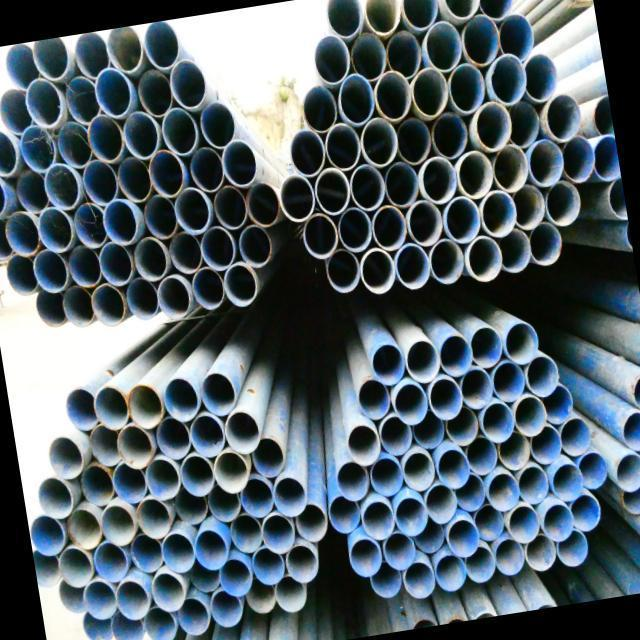pipe: (166, 57, 210, 111), (372, 68, 416, 122), (541, 88, 585, 142), (423, 234, 468, 286), (276, 173, 320, 226), (520, 49, 562, 102), (408, 68, 452, 118), (472, 100, 516, 150), (416, 152, 460, 202), (120, 105, 161, 158), (160, 106, 200, 160), (498, 8, 538, 62), (485, 55, 529, 104), (184, 409, 228, 458), (53, 115, 93, 168), (334, 75, 378, 123), (320, 244, 362, 294), (198, 368, 240, 418), (125, 378, 166, 429), (133, 494, 178, 540), (459, 16, 502, 64), (99, 195, 141, 244), (90, 382, 132, 431), (85, 113, 126, 163), (423, 20, 464, 70), (446, 62, 487, 112), (544, 178, 584, 229), (219, 138, 258, 190), (189, 262, 228, 314), (160, 374, 203, 421), (35, 206, 77, 254), (525, 222, 567, 270), (348, 28, 389, 77), (476, 191, 519, 237), (148, 149, 189, 197), (27, 508, 68, 556), (140, 191, 180, 240), (490, 142, 530, 191), (444, 195, 484, 244), (359, 245, 399, 294), (197, 99, 235, 150), (300, 82, 338, 133), (311, 168, 353, 214), (346, 164, 388, 210), (524, 138, 566, 184), (140, 20, 180, 68), (94, 69, 134, 117), (188, 144, 228, 192), (302, 212, 342, 260), (521, 346, 561, 394), (478, 394, 518, 442), (222, 408, 262, 456), (116, 422, 155, 471), (144, 452, 182, 502), (213, 448, 251, 498), (177, 590, 215, 640), (292, 496, 330, 546), (359, 118, 400, 164), (391, 381, 432, 427), (70, 202, 110, 249), (392, 243, 432, 290), (290, 126, 329, 174), (176, 184, 214, 233), (223, 260, 260, 310), (508, 391, 550, 435), (44, 162, 84, 208), (30, 248, 70, 294), (88, 282, 128, 328), (392, 116, 432, 162), (456, 148, 496, 194), (36, 474, 76, 520), (177, 454, 217, 500), (82, 575, 122, 621), (105, 25, 144, 72), (2, 42, 40, 90), (98, 238, 136, 286), (314, 34, 352, 82), (378, 408, 416, 456), (368, 202, 409, 246), (431, 551, 472, 595), (25, 80, 64, 126), (115, 154, 154, 200), (3, 208, 42, 254), (199, 226, 238, 272), (428, 374, 466, 421), (63, 386, 100, 434), (62, 507, 104, 549), (368, 340, 408, 384), (250, 434, 290, 478), (82, 160, 121, 205), (324, 122, 363, 167), (32, 37, 70, 83), (410, 405, 448, 451), (399, 556, 437, 602), (205, 478, 243, 524), (215, 552, 252, 599), (383, 160, 419, 208), (208, 586, 244, 634), (70, 33, 110, 76), (12, 167, 52, 210), (402, 339, 442, 382), (109, 457, 148, 501), (64, 76, 102, 121), (384, 31, 422, 76), (466, 234, 503, 280), (562, 136, 598, 183), (239, 222, 274, 270), (364, 556, 404, 598), (237, 475, 276, 518), (20, 127, 58, 171), (66, 244, 104, 288), (336, 206, 374, 250), (502, 318, 540, 362), (459, 366, 496, 411), (48, 436, 85, 481), (2, 250, 38, 296), (466, 326, 505, 368), (99, 502, 138, 544), (346, 421, 384, 464), (136, 70, 173, 114), (432, 112, 469, 156), (260, 510, 297, 554), (247, 182, 282, 228), (442, 404, 482, 444), (132, 240, 170, 282), (462, 544, 500, 586), (117, 578, 155, 620), (148, 571, 186, 613), (511, 184, 548, 227), (157, 276, 193, 320), (126, 276, 160, 322), (160, 528, 194, 574), (76, 464, 115, 504), (154, 417, 192, 458), (32, 286, 68, 329), (362, 0, 405, 36), (394, 494, 430, 537), (425, 479, 461, 522), (486, 468, 522, 511), (439, 332, 474, 376), (492, 536, 527, 580), (272, 474, 307, 518), (195, 526, 230, 570), (510, 103, 544, 148), (406, 202, 444, 242), (554, 528, 592, 568), (172, 484, 210, 524), (324, 0, 365, 37), (538, 502, 575, 543), (168, 232, 204, 274), (92, 540, 128, 582), (524, 534, 559, 577), (494, 430, 532, 469), (515, 466, 554, 504), (556, 416, 593, 456), (435, 448, 472, 488), (470, 501, 507, 541), (357, 376, 392, 418), (499, 227, 532, 271), (90, 424, 123, 468), (327, 493, 364, 532), (491, 358, 526, 399), (336, 458, 371, 499), (214, 185, 248, 227), (60, 284, 94, 326), (287, 544, 321, 586), (402, 448, 437, 488), (570, 492, 605, 532), (60, 545, 95, 585), (188, 554, 222, 595), (0, 87, 32, 130), (370, 456, 406, 494), (359, 502, 395, 540), (452, 472, 488, 510), (348, 536, 384, 574), (128, 535, 164, 573), (109, 605, 148, 640), (379, 530, 415, 567), (78, 604, 115, 640), (412, 514, 446, 553), (245, 576, 278, 616), (543, 382, 575, 423), (578, 451, 610, 491), (509, 505, 543, 542), (142, 606, 179, 640), (252, 546, 284, 585), (55, 576, 86, 616), (234, 512, 265, 552), (450, 518, 480, 559), (550, 460, 584, 496), (530, 424, 562, 462), (33, 550, 64, 588), (400, 0, 439, 30), (276, 576, 308, 612), (466, 436, 498, 470), (0, 129, 19, 177), (439, 0, 483, 16), (0, 216, 14, 264), (475, 0, 513, 17), (0, 172, 8, 220)
